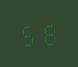eight: (39, 20, 58, 45)
five: (19, 21, 38, 47)
